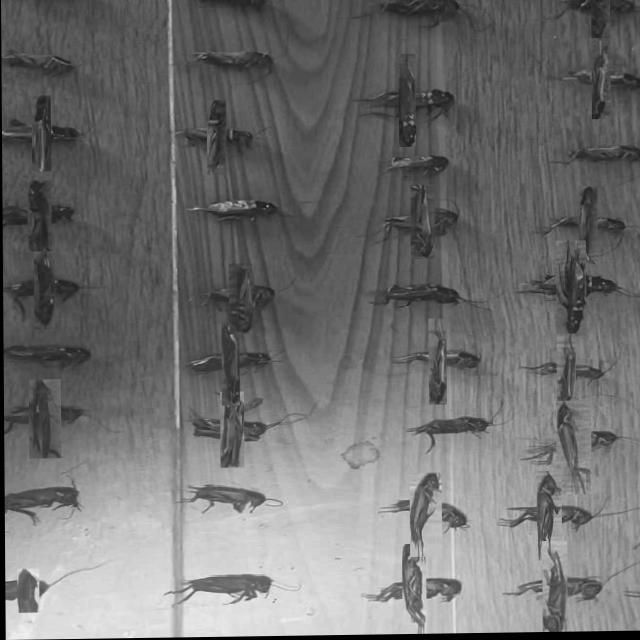no_egg: (555, 403, 589, 497), (4, 485, 79, 524), (170, 576, 272, 604), (407, 419, 491, 453), (555, 242, 584, 340), (408, 474, 439, 559), (27, 380, 59, 459), (535, 473, 559, 569), (541, 543, 566, 634), (400, 545, 424, 635), (184, 486, 264, 513), (187, 200, 278, 221), (377, 0, 461, 22), (409, 186, 434, 259), (219, 392, 242, 469), (373, 287, 466, 306), (3, 346, 89, 366), (228, 264, 252, 334), (398, 55, 416, 147), (26, 181, 49, 253), (33, 251, 54, 329), (427, 320, 446, 405), (1, 52, 74, 74), (555, 335, 575, 413), (591, 40, 610, 121), (220, 321, 238, 406), (194, 52, 271, 71), (206, 100, 225, 176), (577, 188, 595, 267), (31, 95, 49, 172), (387, 157, 449, 176), (568, 149, 640, 164), (15, 569, 37, 613), (590, 0, 610, 43), (199, 0, 266, 7)
